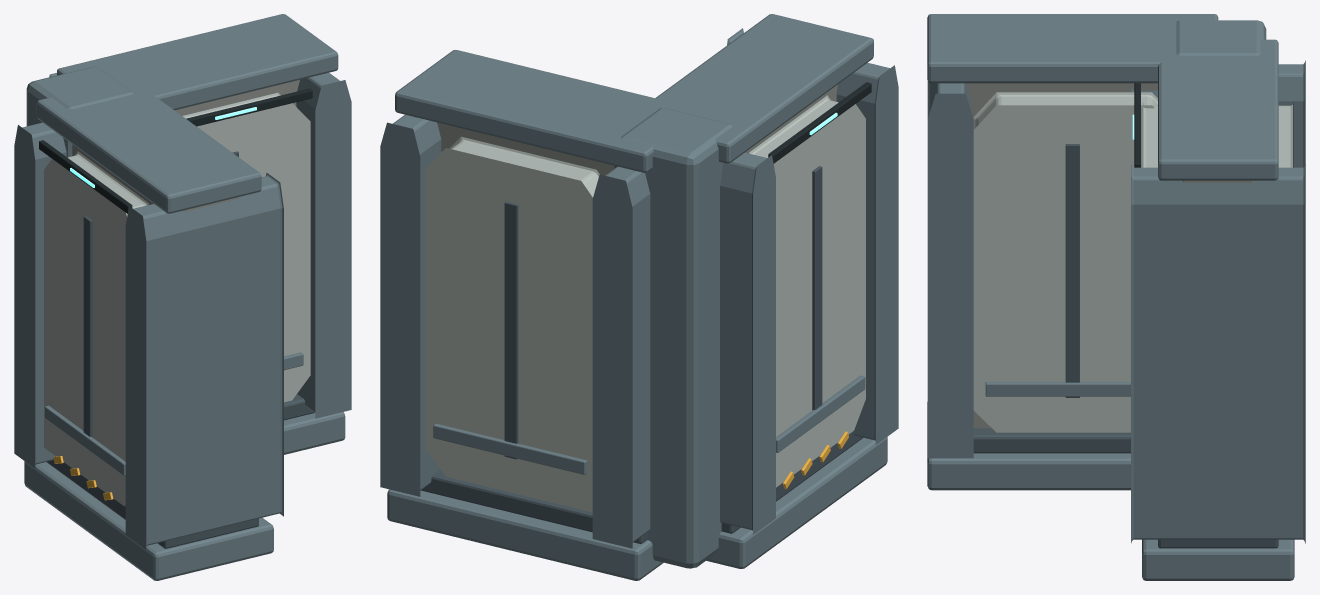
Rendered from wall_corner_d0.glb.
3 renders of one model, left to right at view 1: azimuth 30°, elevation 25°; view 2: azimuth 150°, elevation 25°; view 3: azimuth 270°, elevation 25°, orthographic. The views are drawn at different scales.
Parts seen in each view (by area): view 1: End structural rib.009, Replaceable armor panel.007, End structural rib.007, Cap rail.004, Cap rail.003, Replaceable armor panel.006, End structural rib.008, Load-spreading footing.004, Corner seam tower, Panel recessed spine.014, Load-spreading footing.003, Footing top.004 (+6 smaller); view 2: Rear armor panel.006, Corner seam tower, Replaceable armor panel.007, End structural rib.006, End structural rib.008, Cap rail.003, End structural rib.007, Cap rail.004, End structural rib.009, Load-spreading footing.003, Load-spreading footing.004, Panel recessed spine.013 (+7 smaller); view 3: End structural rib.007, Rear armor panel.007, End structural rib.009, Cap rail.004, Cap rail.003, Load-spreading footing.004, Load-spreading footing.003, Panel recessed spine.015, Footing top.004, Corner seam tower, Geopolymer core.004, Panel lower reinforcement.015 (+5 smaller).
Part boxes in pixels (<box>): End structural rib.009: <box>125,173,283,549</box>; Replaceable armor panel.007: <box>44,151,148,505</box>; End structural rib.007: <box>296,72,351,418</box>; Cap rail.004: <box>36,80,261,213</box>; Cap rail.003: <box>57,14,338,110</box>; Replaceable armor panel.006: <box>182,92,310,402</box>; End structural rib.008: <box>14,122,66,468</box>; Load-spreading footing.004: <box>24,461,273,580</box>; Corner seam tower: <box>26,66,133,157</box>; Panel recessed spine.014: <box>83,216,92,437</box>; Load-spreading footing.003: <box>284,412,345,454</box>; Footing top.004: <box>46,456,258,548</box>; Rear armor panel.006: <box>425,136,599,512</box>; Corner seam tower: <box>614,108,732,568</box>; Replaceable armor panel.007: <box>749,95,865,487</box>; End structural rib.006: <box>592,166,650,548</box>; End structural rib.008: <box>720,152,775,534</box>; Cap rail.003: <box>395,50,701,172</box>; End structural rib.007: <box>380,114,441,496</box>; Cap rail.004: <box>631,14,873,163</box>; End structural rib.009: <box>727,28,898,444</box>; Load-spreading footing.003: <box>387,489,663,580</box>; Load-spreading footing.004: <box>706,437,887,568</box>; Panel recessed spine.013: <box>504,201,518,459</box>; End structural rib.007: <box>1131,164,1305,543</box>; Rear armor panel.007: <box>973,92,1157,432</box>; End structural rib.009: <box>927,81,973,458</box>; Cap rail.004: <box>927,14,1218,83</box>; Cap rail.003: <box>1158,39,1278,180</box>; Load-spreading footing.004: <box>927,402,1130,490</box>; Load-spreading footing.003: <box>1142,539,1294,580</box>; Panel recessed spine.015: <box>1065,144,1079,397</box>; Footing top.004: <box>973,428,1130,453</box>; Corner seam tower: <box>1176,20,1266,55</box>; Geopolymer core.004: <box>966,83,1157,428</box>; Panel lower reinforcement.015: <box>985,382,1130,396</box>.
Bounding box in the file's own units: 2.6 × 3.21 × 2.6.
